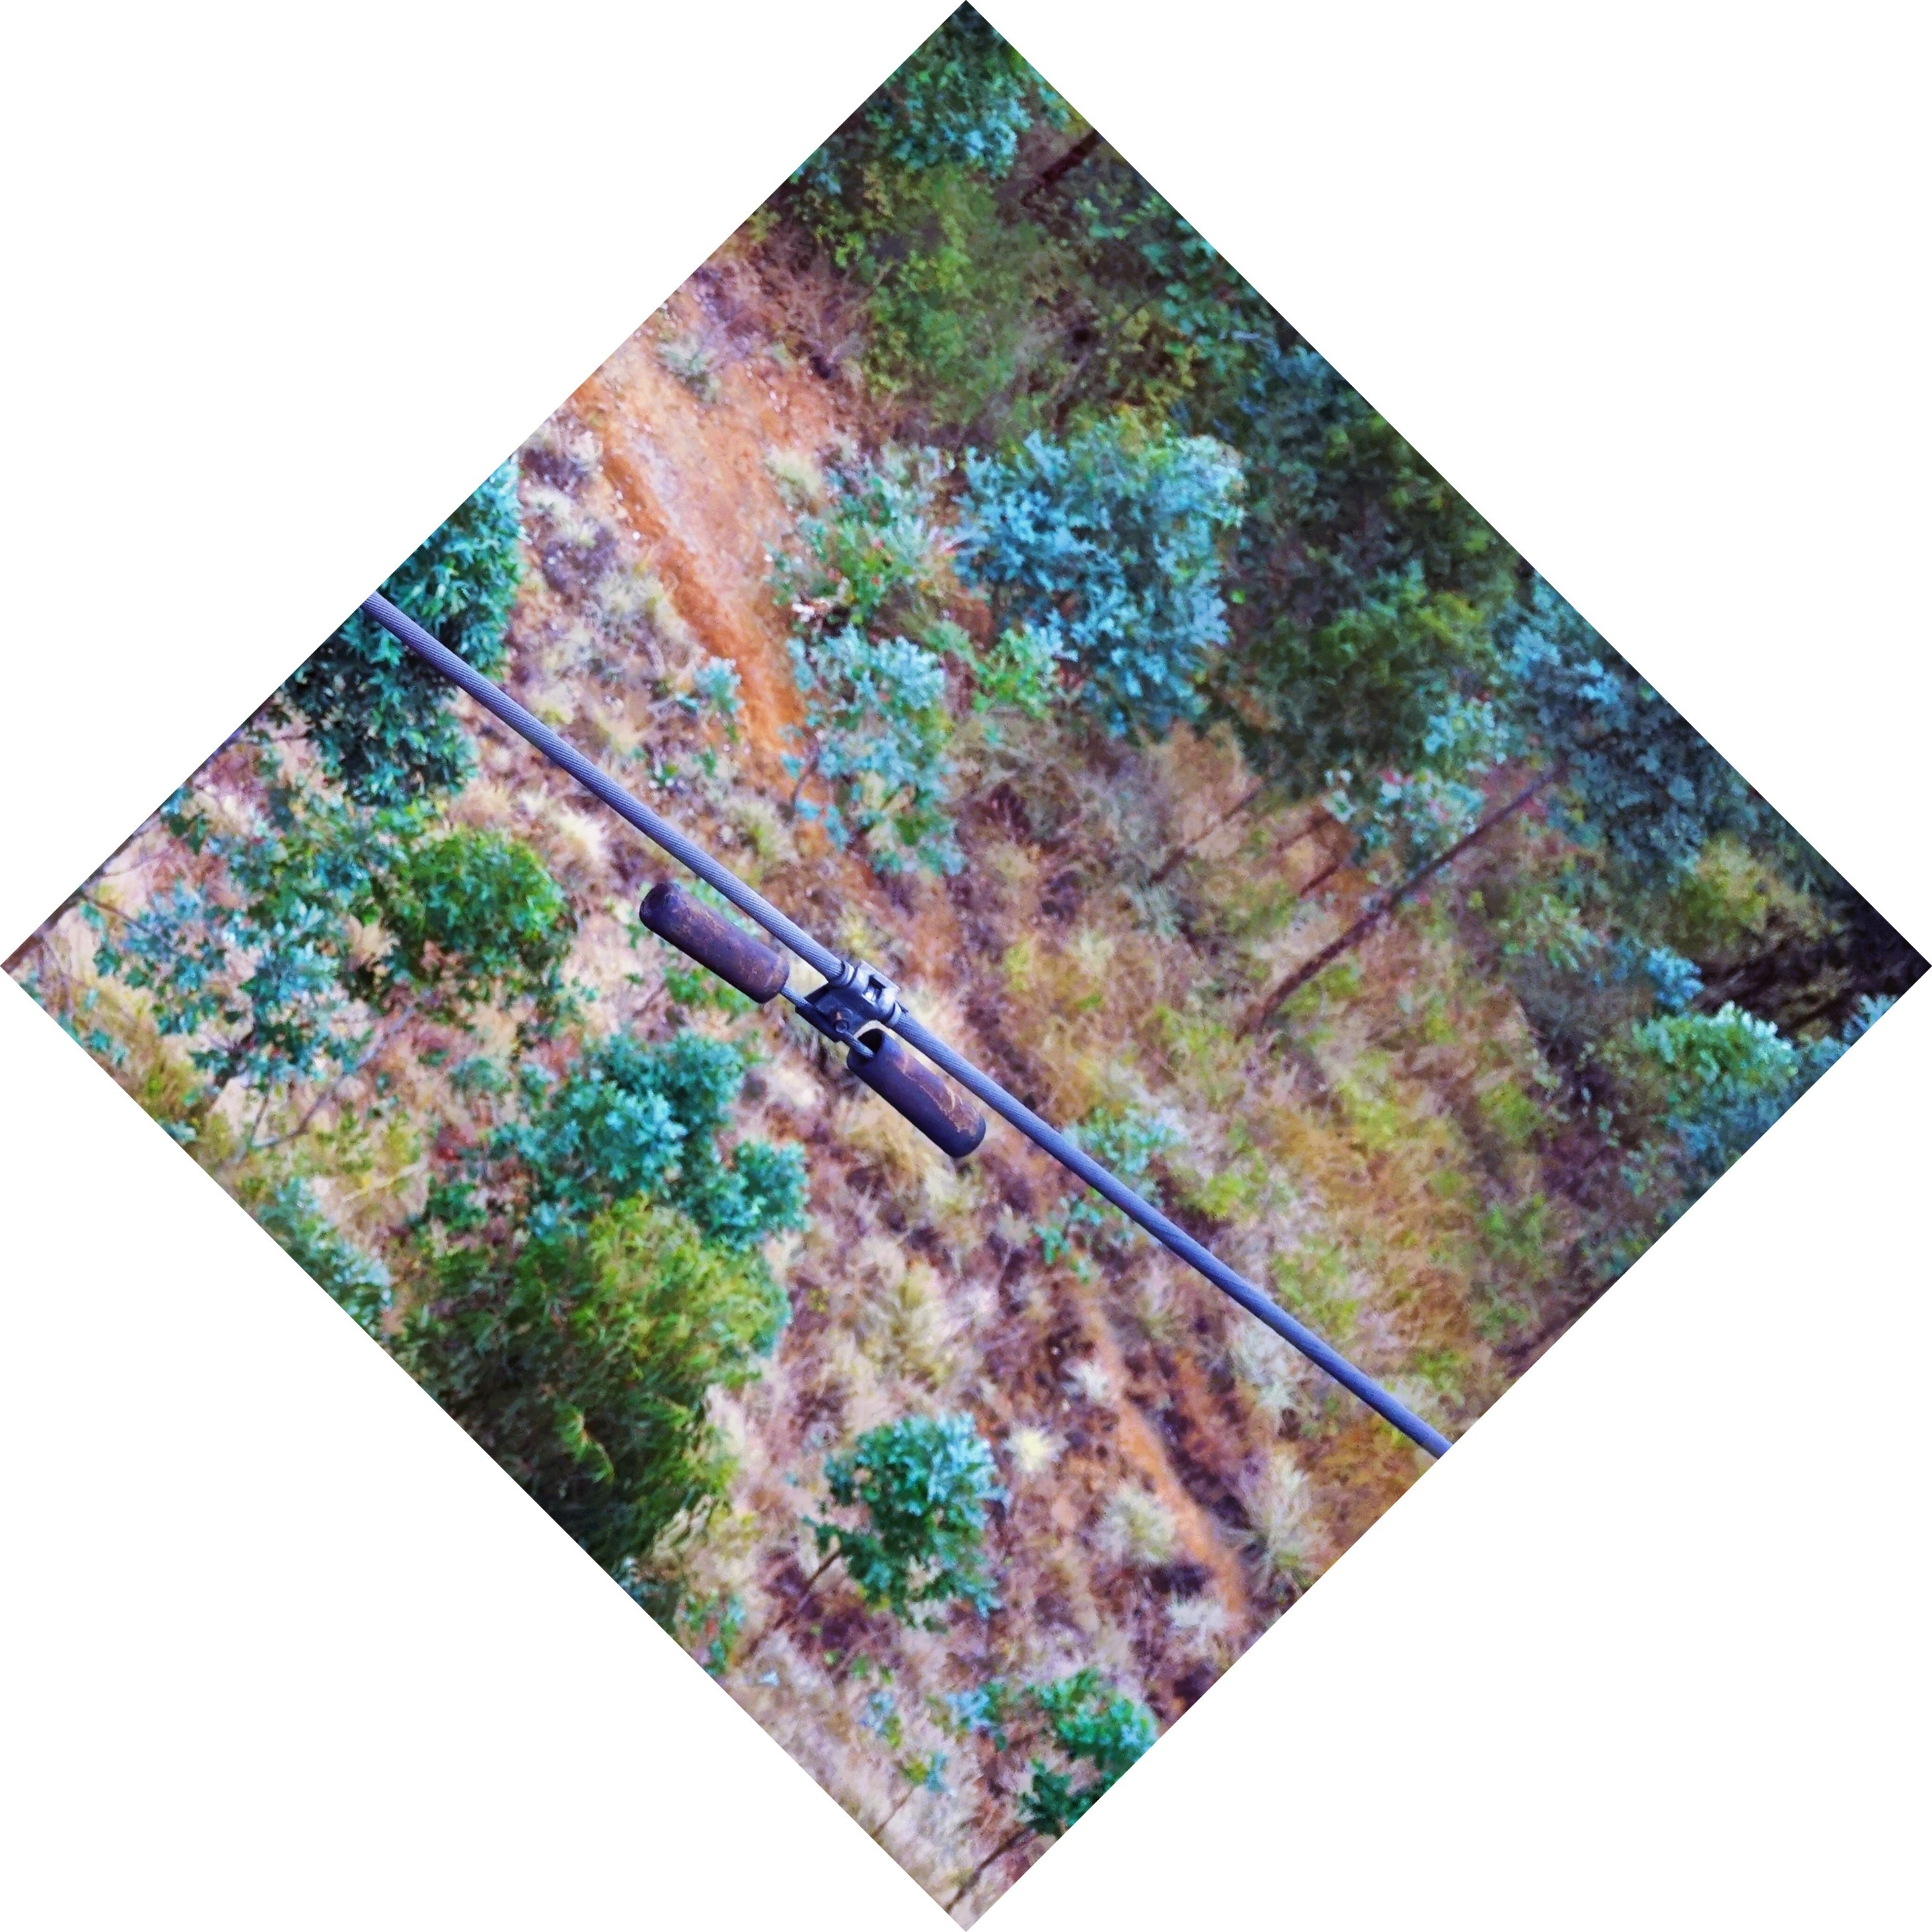Shockproof hammer: (626, 846, 1016, 1171)
